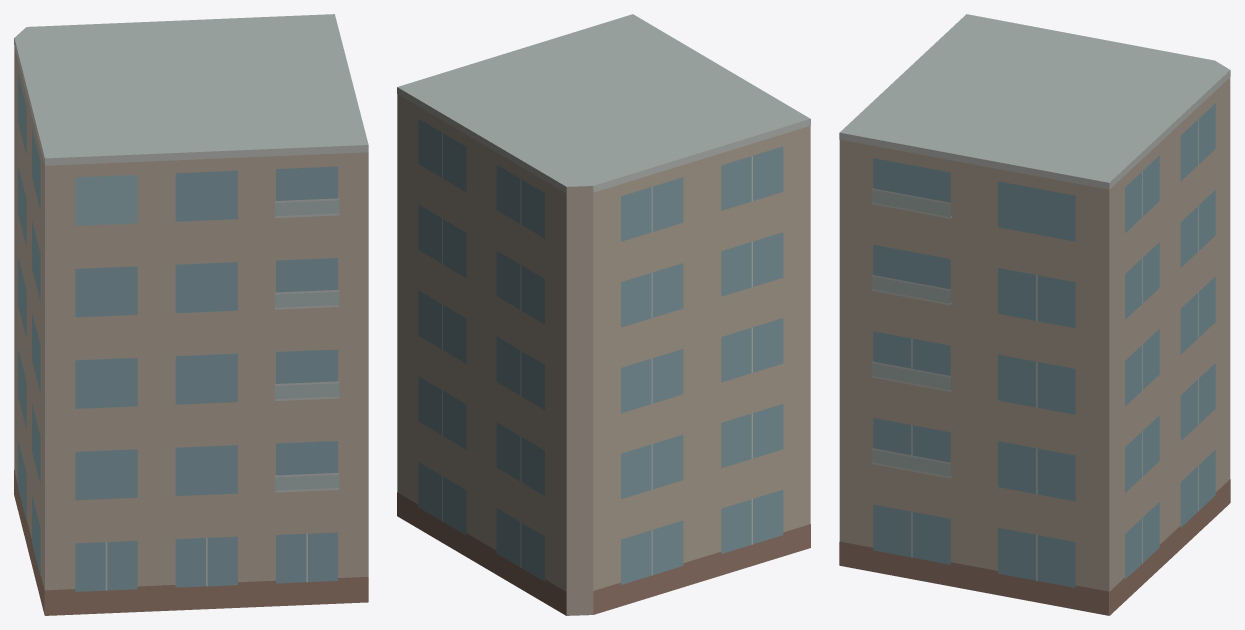
File: survey-upis-32668614.glb
3 renders of one model, left to right at view 1: azimuth 30°, elevation 25°; view 2: azimuth 150°, elevation 25°; view 3: azimuth 270°, elevation 25°, orthographic. The views are drawn at different scales.
Visible parts, largest first — view 1: survey-upis-32668614.tmp; view 2: survey-upis-32668614.tmp; view 3: survey-upis-32668614.tmp.
Part boxes in pixels (bbox=[...]): survey-upis-32668614.tmp: bbox=[14, 14, 368, 615]; survey-upis-32668614.tmp: bbox=[397, 14, 810, 615]; survey-upis-32668614.tmp: bbox=[839, 14, 1230, 615].
Size of the model in its own units: 12.8 by 15.3 by 12.53.
